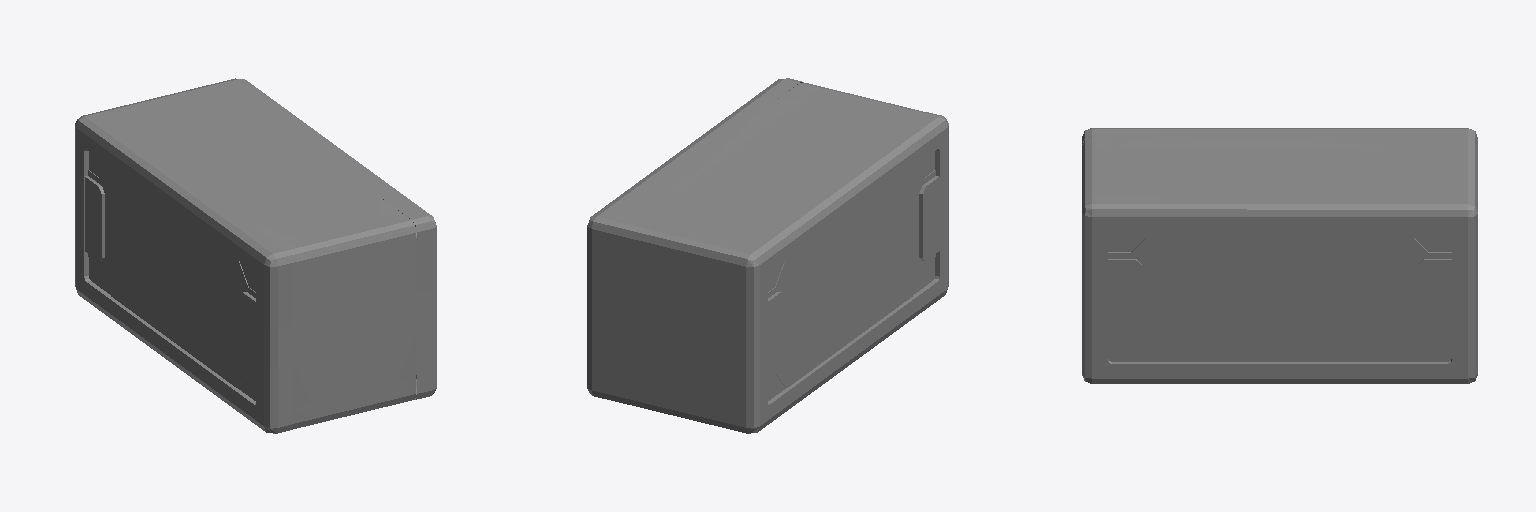
File: cpz_obj_floor_4bx_M.obj
3 views of the same model, side by side, from view 1: azimuth 30°, elevation 25°; view 2: azimuth 150°, elevation 25°; view 3: azimuth 270°, elevation 25° (orthographic).
Visible parts, largest first — view 1: ccp_metal_yy_floor2_Lumi_dpnE, cpz_metal_yy1_ylwflor_Cmn_dpn, ccp_metal_yy_gray02_Lumin_dpnE, cpz_metal_yy_slop_cmn_dpn, cpz_yy1_road_cmn_dp, cpz_metal_st1_accel01_dpn, cpz_metal_tn1_wirenet_001; view 2: ccp_metal_yy_floor2_Lumi_dpnE, cpz_metal_yy1_ylwflor_Cmn_dpn, ccp_metal_yy_gray02_Lumin_dpnE, cpz_metal_yy_slop_cmn_dpn, cpz_yy1_road_cmn_dp, cpz_metal_st1_accel01_dpn, cpz_metal_tn1_wirenet_001; view 3: ccp_metal_yy_gray02_Lumin_dpnE, cpz_metal_yy1_ylwflor_Cmn_dpn, cpz_metal_yy_slop_cmn_dpn, ccp_metal_yy_floor2_Lumi_dpnE, cpz_yy1_road_cmn_dp, cpz_metal_st1_accel01_dpn, cpz_metal_tn1_wirenet_001.
Part boxes in pixels (left/top/right/bottom): ccp_metal_yy_floor2_Lumi_dpnE: left=129, top=94, right=396, bottom=402; cpz_metal_yy1_ylwflor_Cmn_dpn: left=75, top=82, right=436, bottom=429; ccp_metal_yy_gray02_Lumin_dpnE: left=102, top=171, right=245, bottom=381; cpz_metal_yy_slop_cmn_dpn: left=75, top=78, right=436, bottom=433; cpz_yy1_road_cmn_dp: left=109, top=89, right=416, bottom=407; cpz_metal_st1_accel01_dpn: left=85, top=176, right=255, bottom=375; cpz_metal_tn1_wirenet_001: left=89, top=152, right=415, bottom=400; ccp_metal_yy_floor2_Lumi_dpnE: left=627, top=95, right=893, bottom=403; cpz_metal_yy1_ylwflor_Cmn_dpn: left=587, top=82, right=948, bottom=429; ccp_metal_yy_gray02_Lumin_dpnE: left=778, top=171, right=921, bottom=381; cpz_metal_yy_slop_cmn_dpn: left=587, top=78, right=948, bottom=433; cpz_yy1_road_cmn_dp: left=607, top=90, right=912, bottom=408; cpz_metal_st1_accel01_dpn: left=768, top=176, right=939, bottom=375; cpz_metal_tn1_wirenet_001: left=768, top=152, right=934, bottom=400; ccp_metal_yy_gray02_Lumin_dpnE: left=1136, top=234, right=1423, bottom=357; cpz_metal_yy1_ylwflor_Cmn_dpn: left=1082, top=128, right=1477, bottom=383; cpz_metal_yy_slop_cmn_dpn: left=1082, top=128, right=1477, bottom=383; ccp_metal_yy_floor2_Lumi_dpnE: left=1111, top=146, right=1449, bottom=186; cpz_yy1_road_cmn_dp: left=1111, top=136, right=1450, bottom=196; cpz_metal_st1_accel01_dpn: left=1108, top=259, right=1451, bottom=333; cpz_metal_tn1_wirenet_001: left=1108, top=232, right=1451, bottom=361.
Size of the model in its own units: 72.04 by 72.04 by 144.